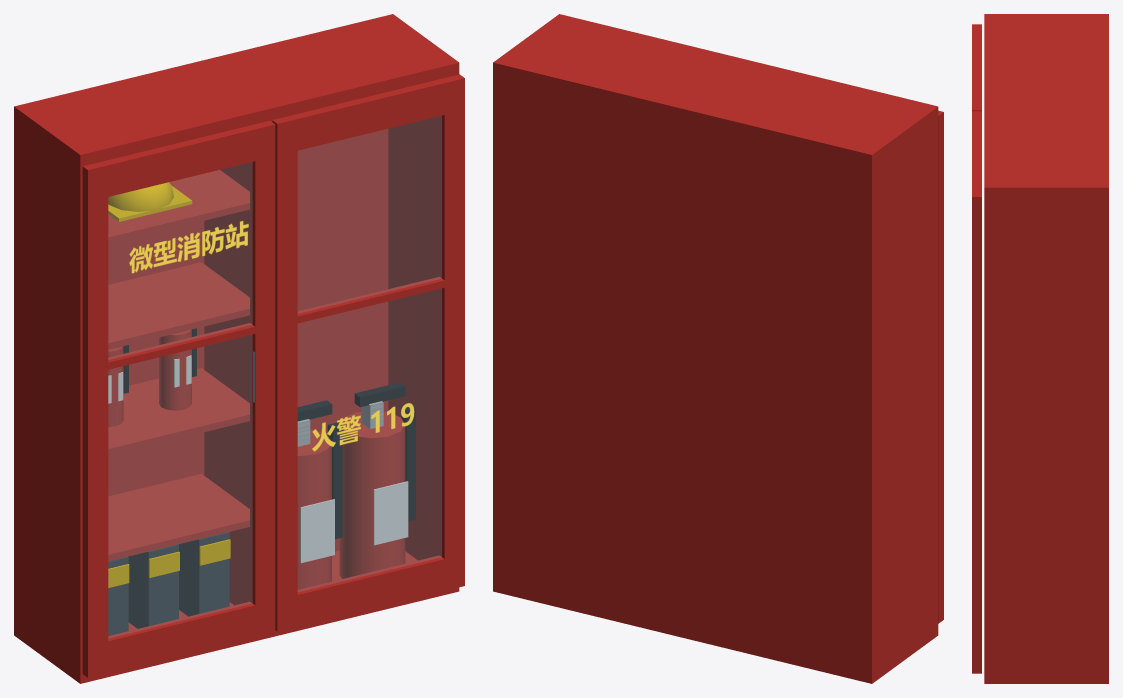
Rendered from extinguisher-glass.glb.
3 views of the same model, side by side, from view 1: azimuth 30°, elevation 25°; view 2: azimuth 150°, elevation 25°; view 3: azimuth 270°, elevation 25° (orthographic). The views are drawn at different scales.
Parts seen in each view (by area): view 1: cabinet-shell (×6), cabinet-pane (×2), cabinet-frame (×10), ExtinguisherGlass, cabinet-shelf (×4), cabinet-label; view 2: cabinet-shell (×4), cabinet-frame; view 3: cabinet-shell (×4), cabinet-frame (×3).
Part boxes in pixels (bbox=[...]): cabinet-shell (×6): bbox=[14, 14, 459, 683]; cabinet-pane (×2): bbox=[108, 116, 441, 637]; cabinet-frame (×10): bbox=[82, 74, 464, 677]; ExtinguisherGlass: bbox=[108, 182, 415, 635]; cabinet-shelf (×4): bbox=[108, 170, 249, 561]; cabinet-label: bbox=[129, 221, 414, 451]; cabinet-shell (×4): bbox=[493, 14, 938, 683]; cabinet-frame: bbox=[938, 110, 943, 623]; cabinet-shell (×4): bbox=[984, 14, 1108, 683]; cabinet-frame (×3): bbox=[972, 33, 981, 673].
Size of the model in its own units: 1.5 by 2 by 0.5.
Materials: 8 (2 with a texture image).
